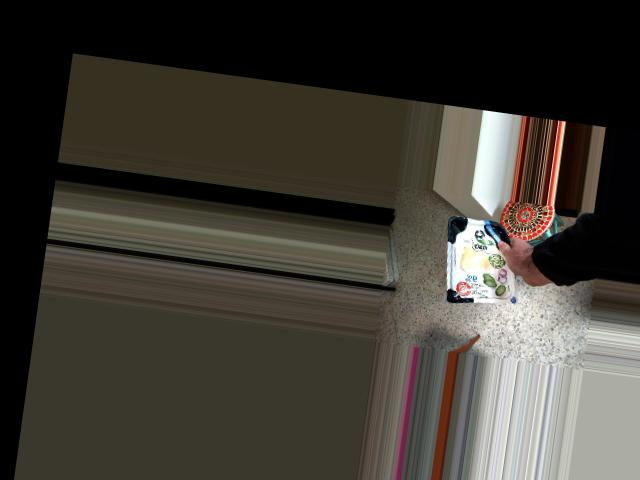cheese: (461, 230, 537, 312)
